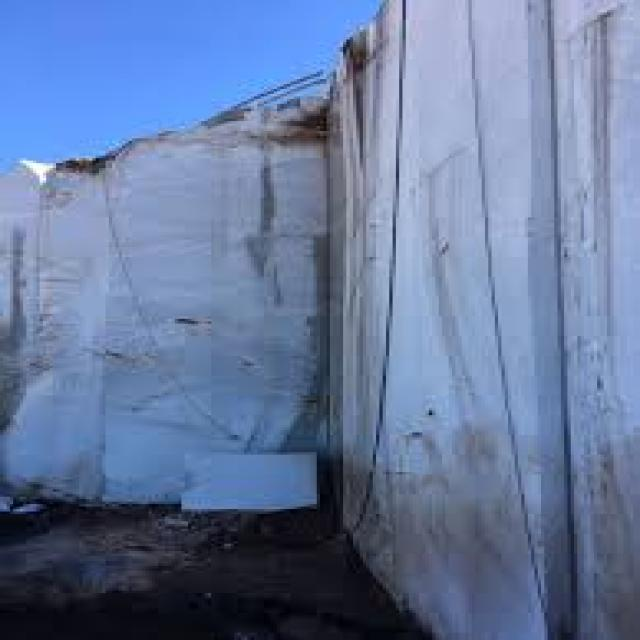Metamorphic: (333, 5, 640, 637), (4, 126, 336, 502)
